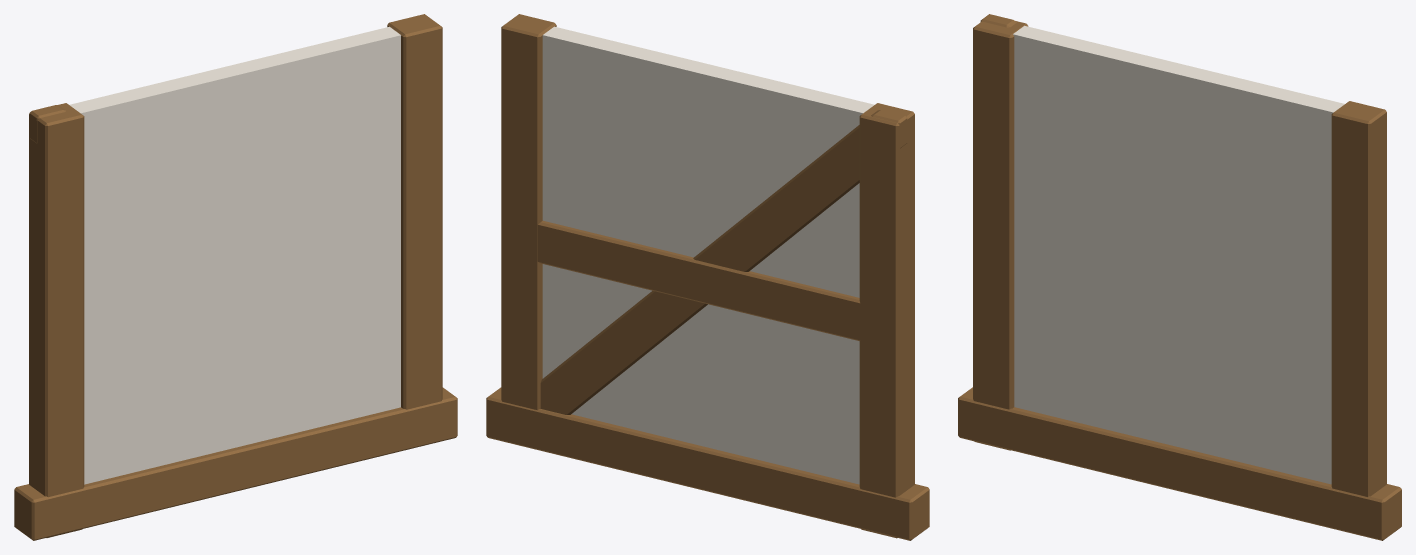
File: WallHDiagR.fbx
The picture shows the model from 3 angles, left to right: view 1: azimuth 30°, elevation 25°; view 2: azimuth 150°, elevation 25°; view 3: azimuth 330°, elevation 25°; orthographic projection.
Visible parts, largest first — view 1: WallHDiagL, Cube.088, Cube.091, Cube.087; view 2: WallHDiagL, Cube.088, Cube.091, Cube.090, Cube.087, Cube.089; view 3: WallHDiagL, Cube.087, Cube.091, Cube.088.
Part boxes in pixels (x1,y1,x2,y2): WallHDiagL: (69, 26, 400, 484); Cube.088: (29, 103, 84, 537); Cube.091: (14, 387, 457, 540); Cube.087: (387, 14, 442, 409); WallHDiagL: (542, 26, 874, 484); Cube.088: (859, 103, 914, 538); Cube.091: (486, 387, 929, 540); Cube.090: (540, 110, 907, 414); Cube.087: (501, 14, 556, 410); Cube.089: (537, 220, 860, 340); WallHDiagL: (1013, 25, 1344, 484); Cube.087: (1331, 101, 1386, 496); Cube.091: (958, 387, 1401, 540); Cube.088: (973, 21, 1028, 450).
Size of the model in its own units: 216 by 202 by 17.27.
